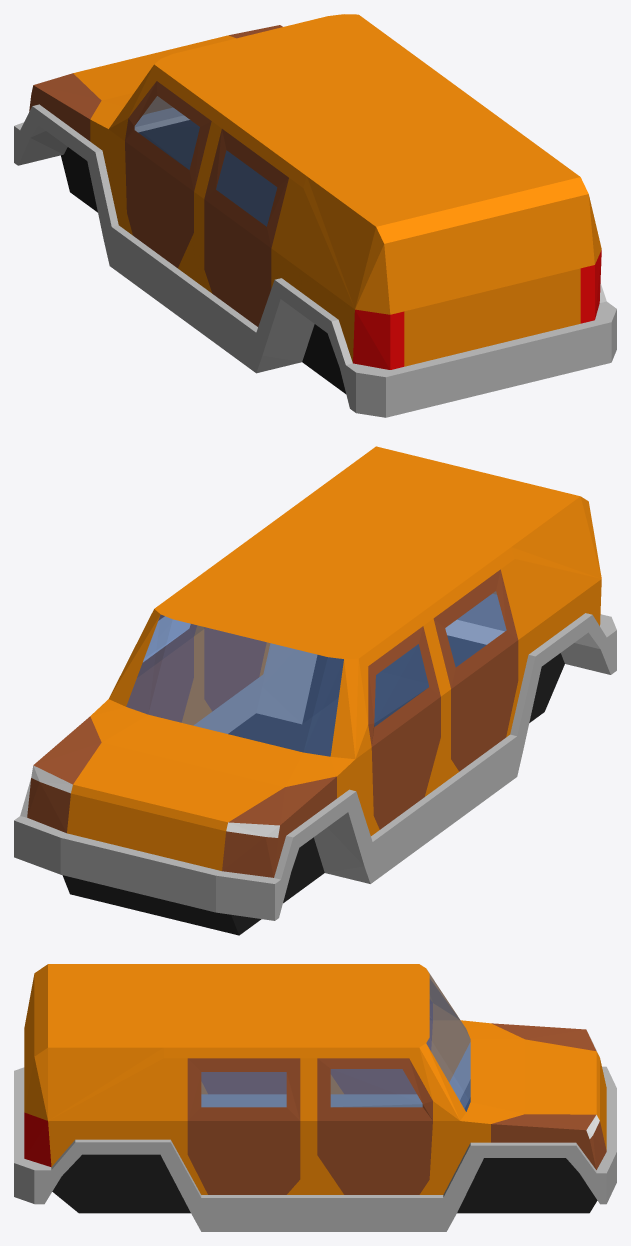
Rendered from Fury.fbx.
3 renders of one model, top to bottom at view 1: azimuth 30°, elevation 25°; view 2: azimuth 150°, elevation 25°; view 3: azimuth 270°, elevation 25°, orthographic. The views are drawn at different scales.
Visible parts, largest first — view 1: _(Loose Entity); view 2: _(Loose Entity); view 3: _(Loose Entity).
Boxes of the visible parts, x1,y1,x2,y2 form: _(Loose Entity): (14, 14, 616, 417); _(Loose Entity): (14, 446, 616, 935); _(Loose Entity): (14, 964, 616, 1231).
Size of the model in its own units: 188 by 142 by 450.
